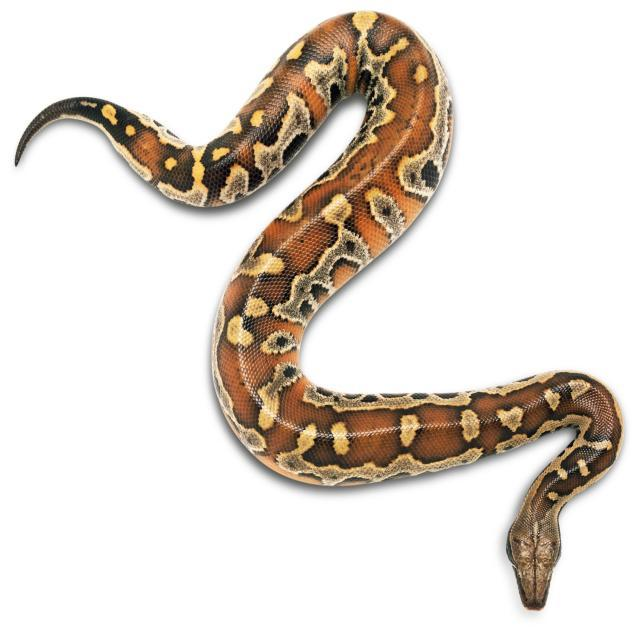Snake: (11, 0, 634, 602)
